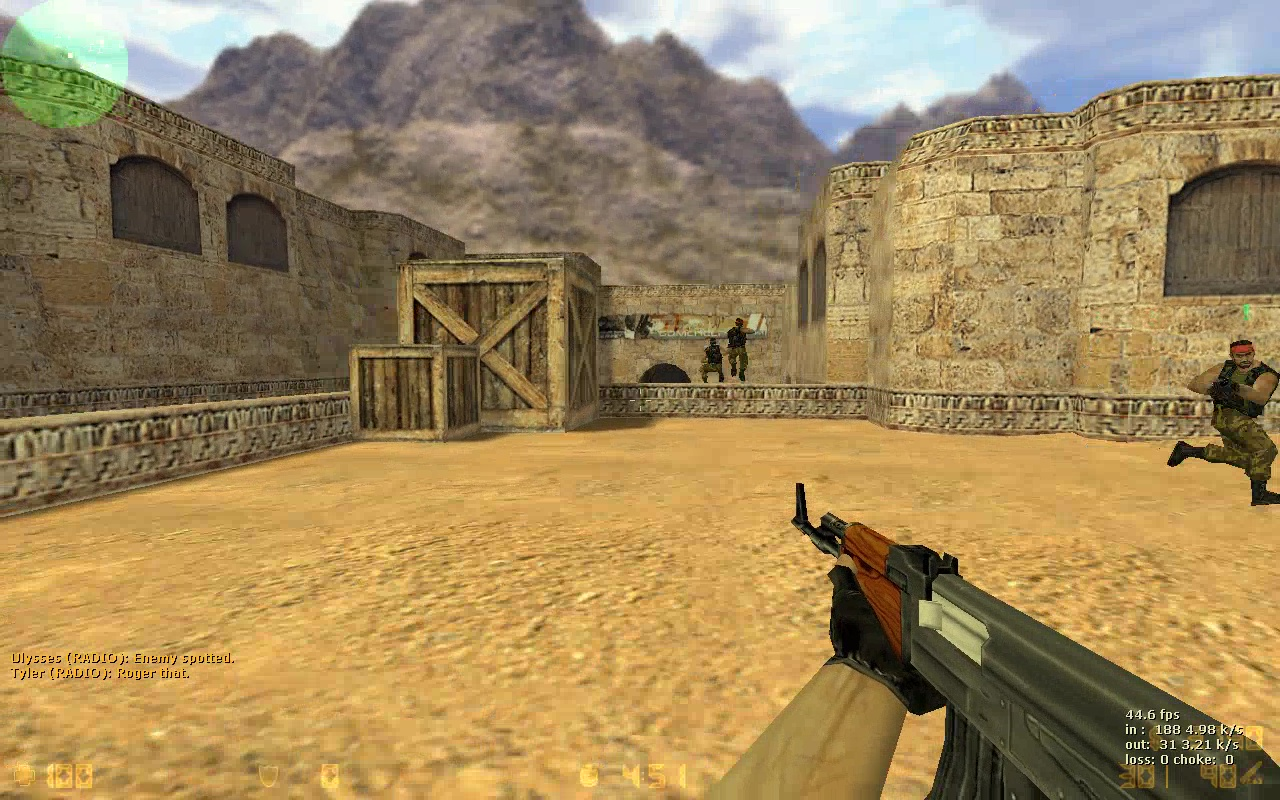terr1: (1167, 339, 1280, 507), (725, 316, 755, 381), (699, 337, 728, 386)
